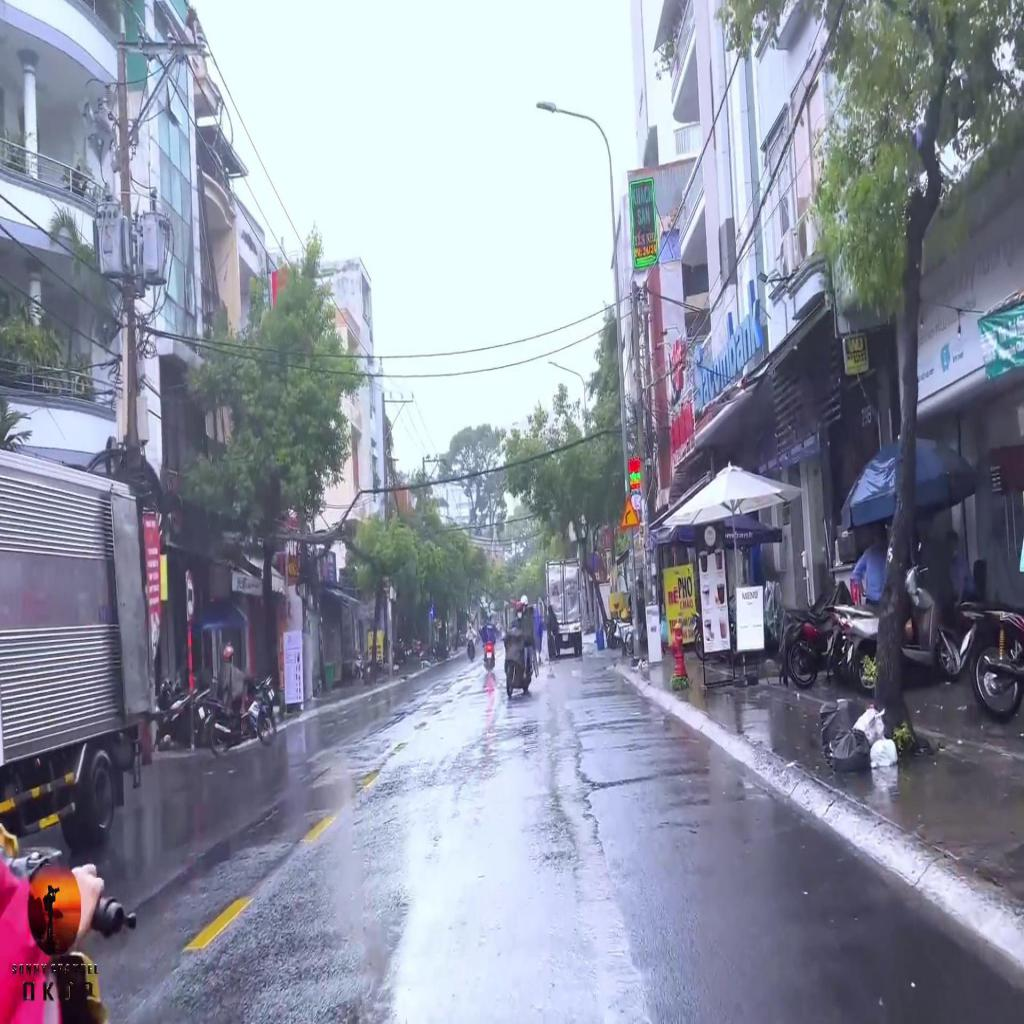cho_ngoat_nguy_hiem_ben_phai: (619, 495, 639, 529)
